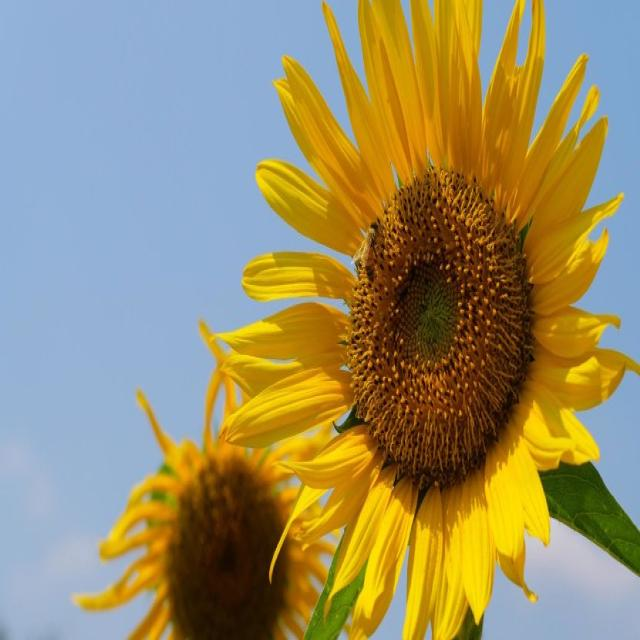sunflower: (223, 7, 640, 640), (75, 330, 374, 640)
